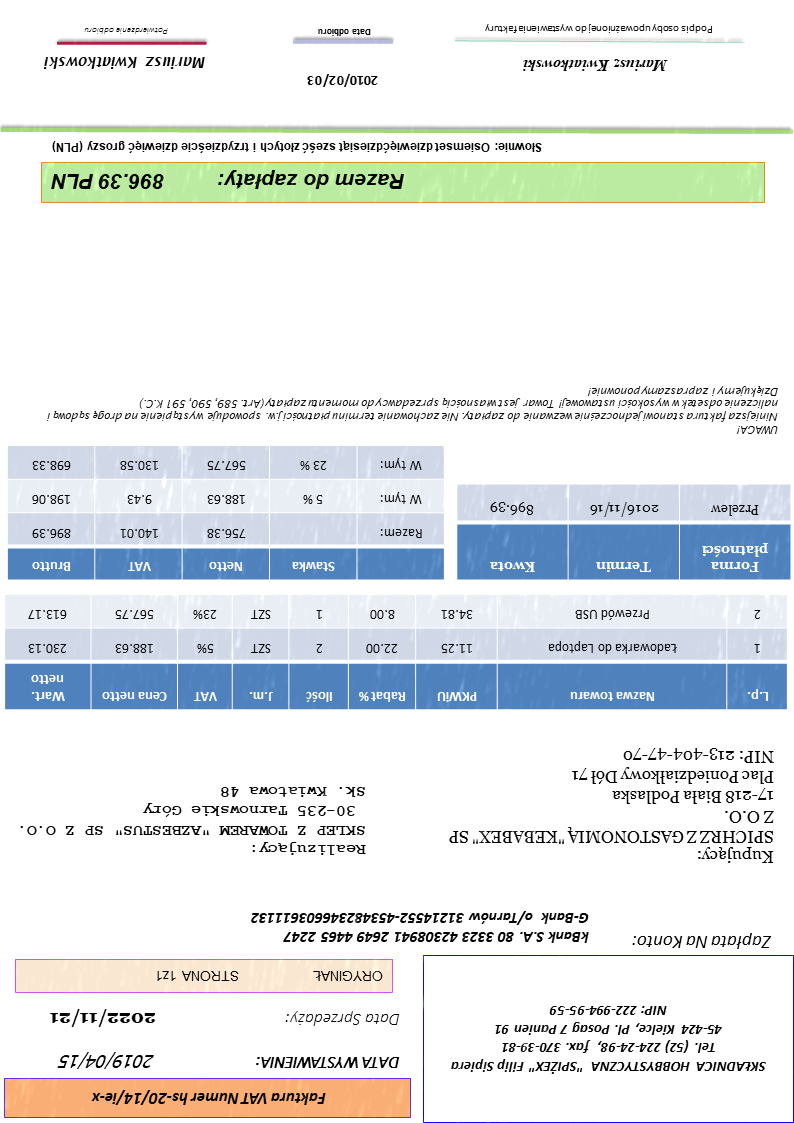Table: (2, 591, 790, 712), (8, 445, 446, 583), (457, 483, 792, 582)
TextBox: (42, 383, 782, 440), (443, 746, 780, 870), (19, 781, 371, 860), (449, 1003, 768, 1077), (248, 910, 593, 948), (47, 136, 545, 159), (47, 167, 408, 197), (91, 1088, 329, 1109), (482, 19, 717, 40), (152, 966, 386, 987), (38, 51, 208, 73), (520, 55, 671, 78), (629, 932, 777, 953), (254, 1054, 402, 1074), (284, 1008, 403, 1031), (49, 1005, 160, 1029), (56, 1051, 158, 1073), (82, 21, 171, 40), (306, 70, 382, 91), (315, 26, 375, 40)
